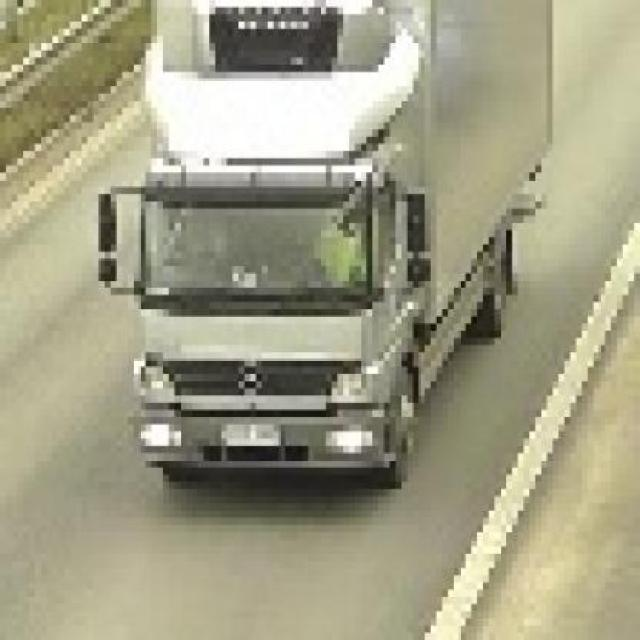truck: (94, 1, 554, 490)
